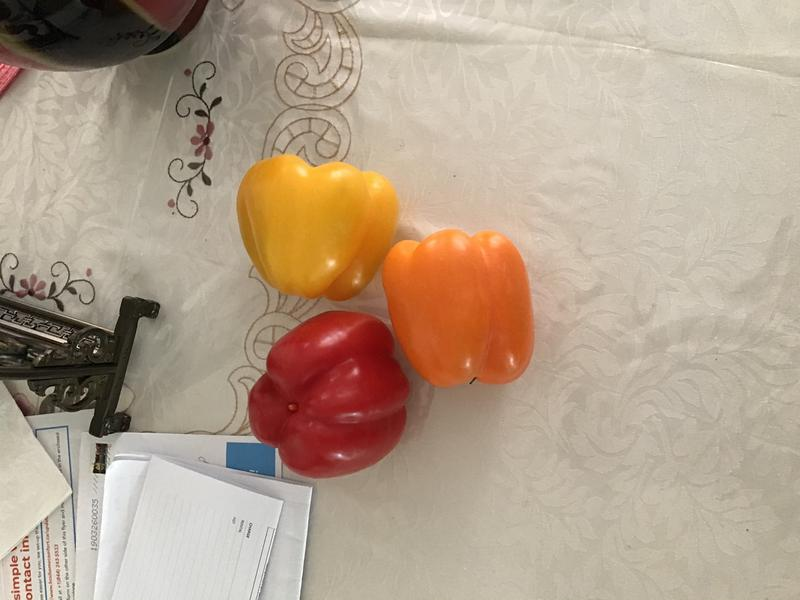orange_pepper: (382, 228, 541, 394)
red_pepper: (246, 306, 413, 488)
yellow_pepper: (229, 148, 404, 309)
